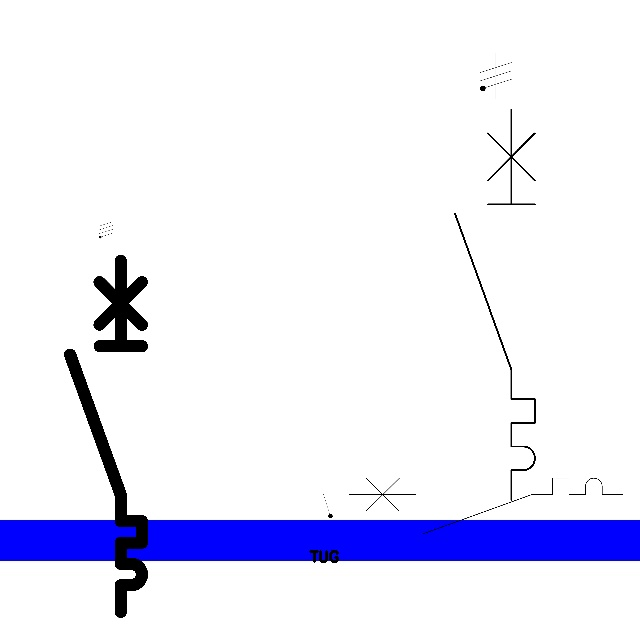interruptor_termomagnetico: (445, 99, 545, 509), (61, 251, 151, 620), (342, 471, 629, 541)
